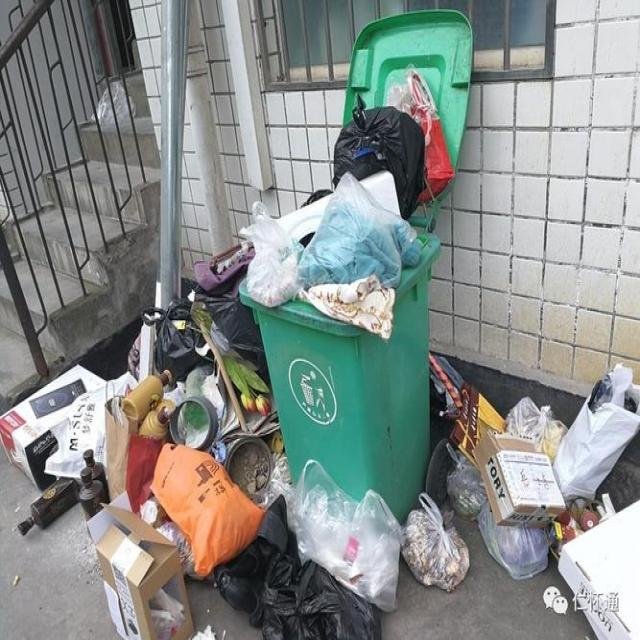garbage: (0, 239, 639, 639)
overflow: (239, 68, 455, 522)
